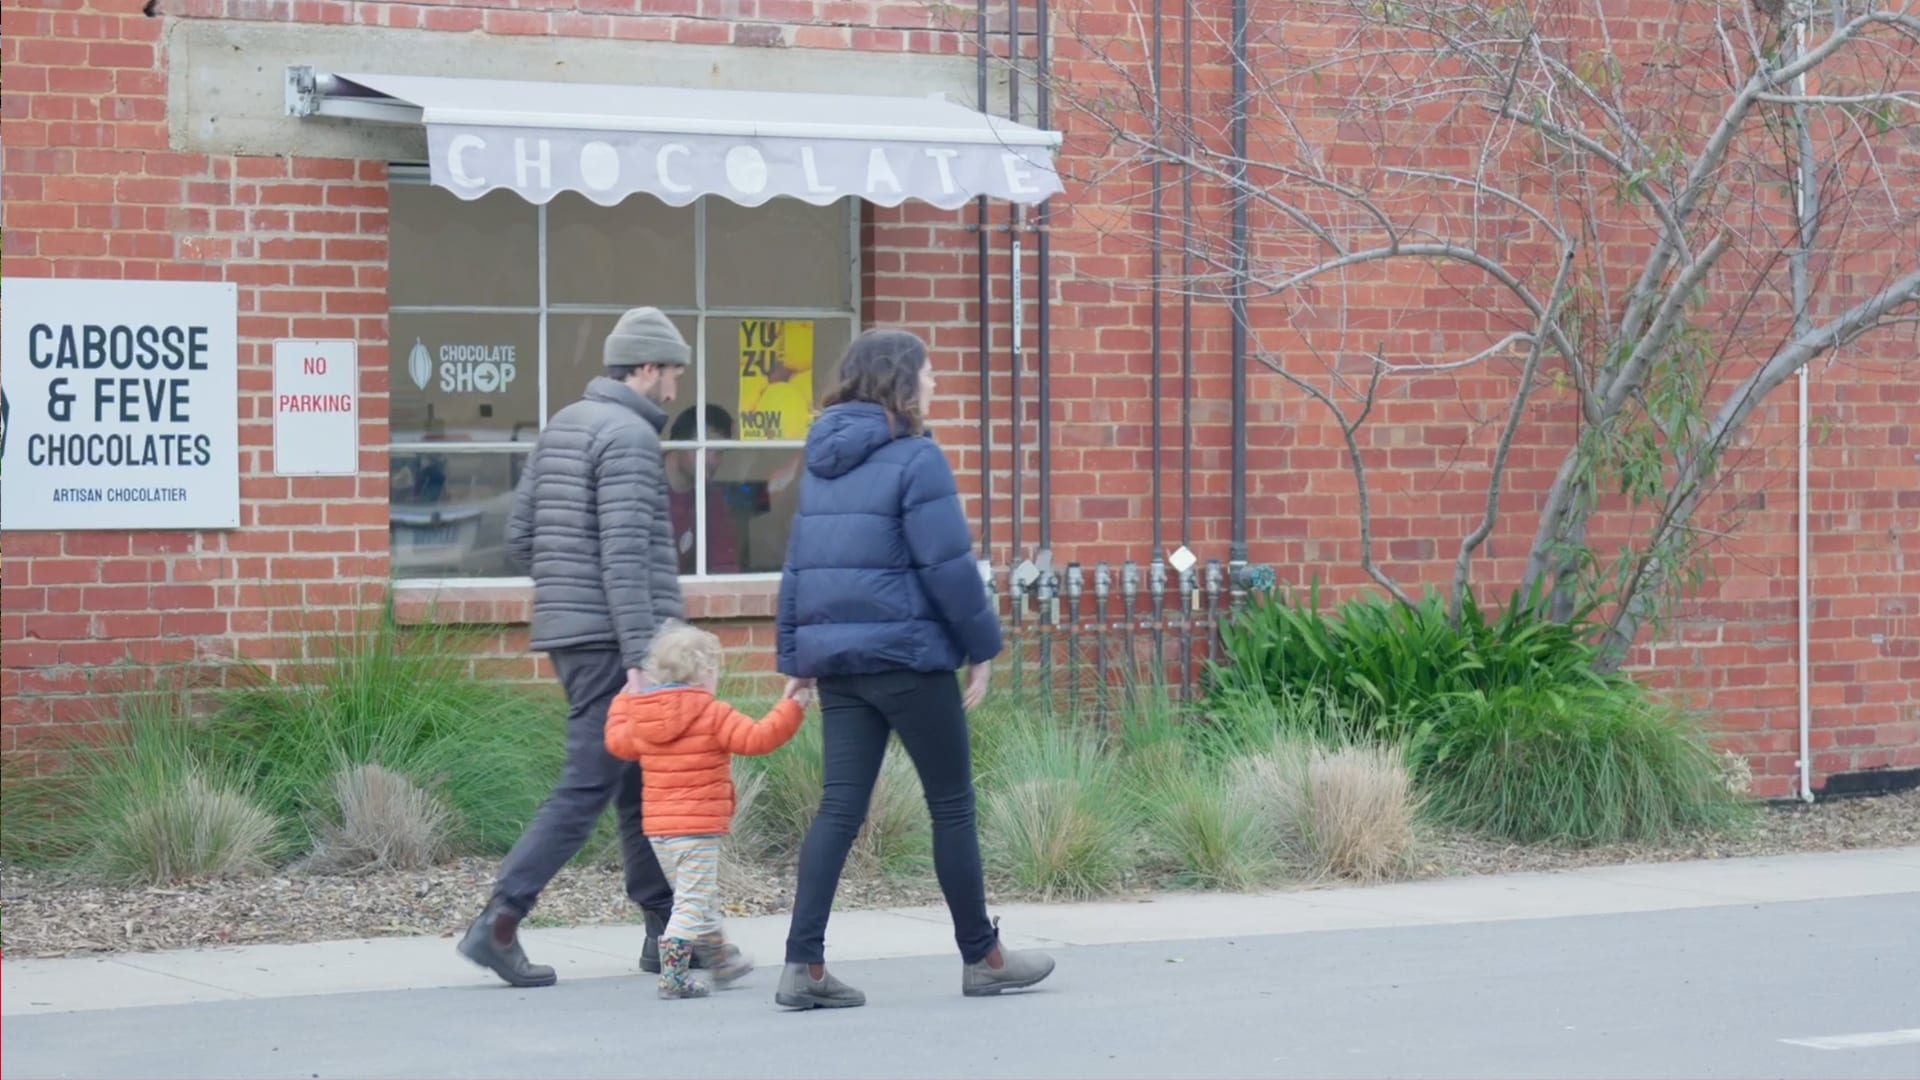person: (445, 298, 756, 1015), (758, 317, 1062, 1017), (584, 615, 821, 1010)
